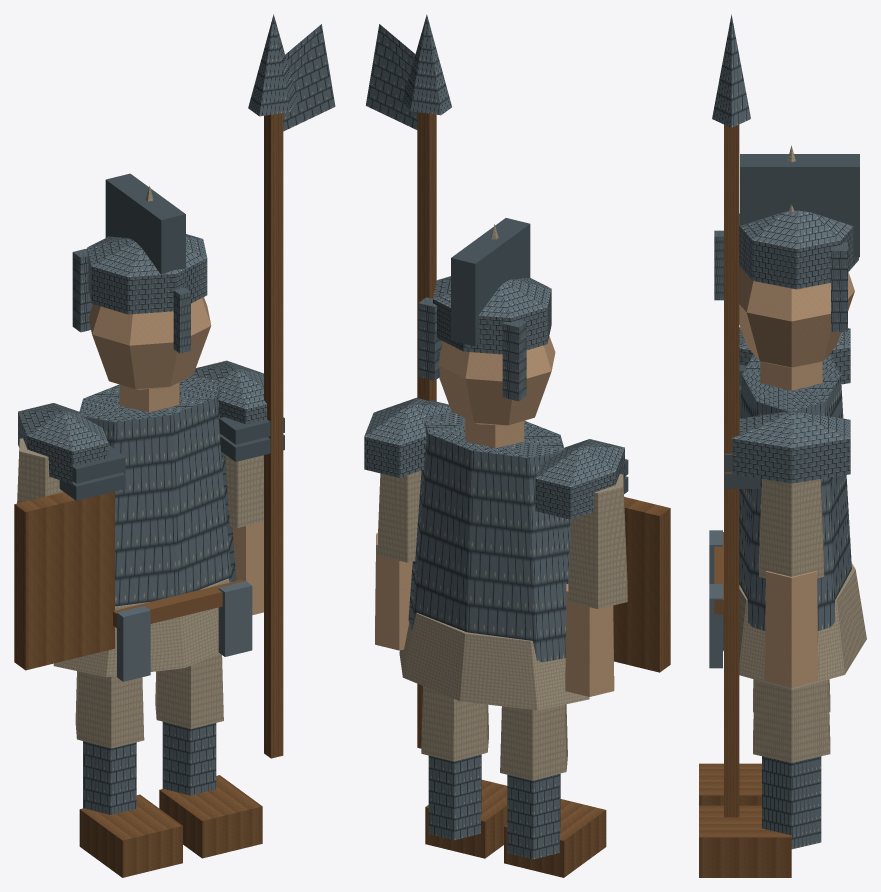
Rendered from unit-HALBERD-lod1.glb.
3 views of the same model, side by side, from view 1: azimuth 30°, elevation 25°; view 2: azimuth 150°, elevation 25°; view 3: azimuth 270°, elevation 25° (orthographic). The views are drawn at different scales.
Size of the model in its own units: 0.225 by 0.565 by 0.098.
1 material, 1 textured.
